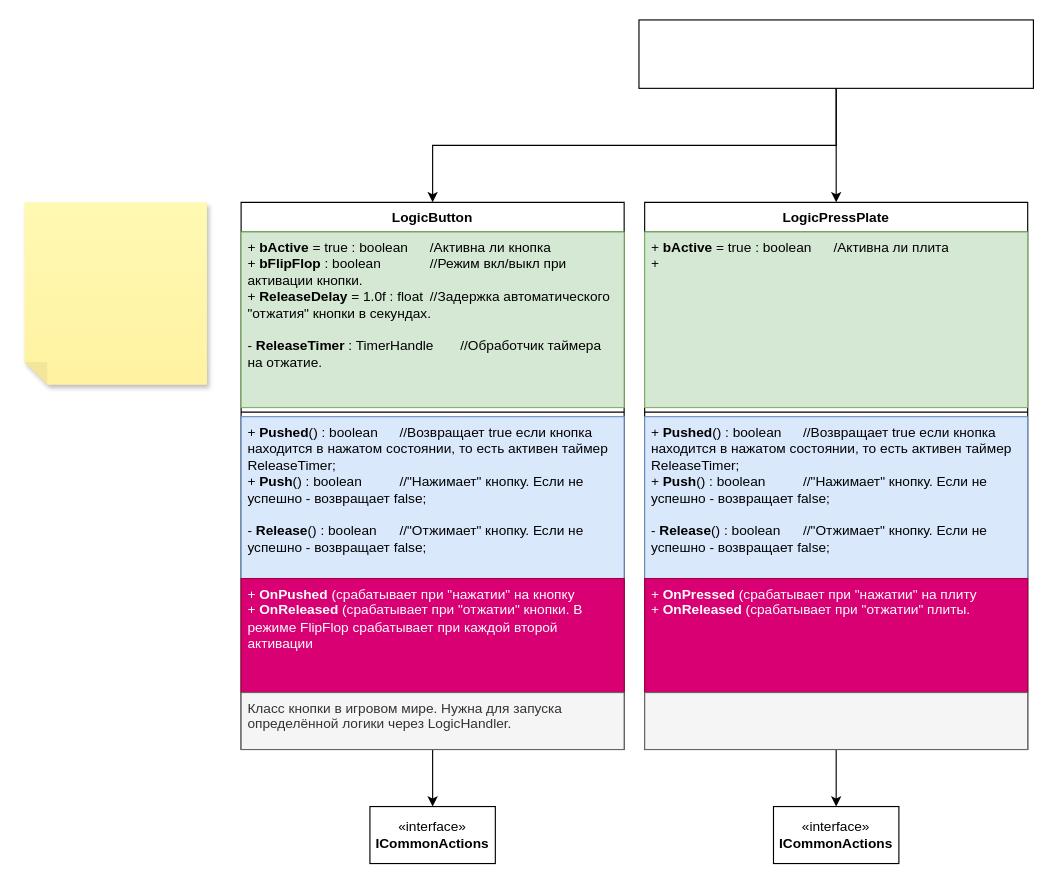
Image size: 1053x884. Some labels were removed from this diagram. Here are the shapes that lost their labels. From the top down, the centre of each, then its label:
pixel 835 53: Механики взаимодействия \ головоломки
pixel 116 294: Конпка срабатывает при ударе игрока во время "рывка"
pixel 836 720: Простая нажимная плита. Активна пока на ней находится какой-либо предмет.
